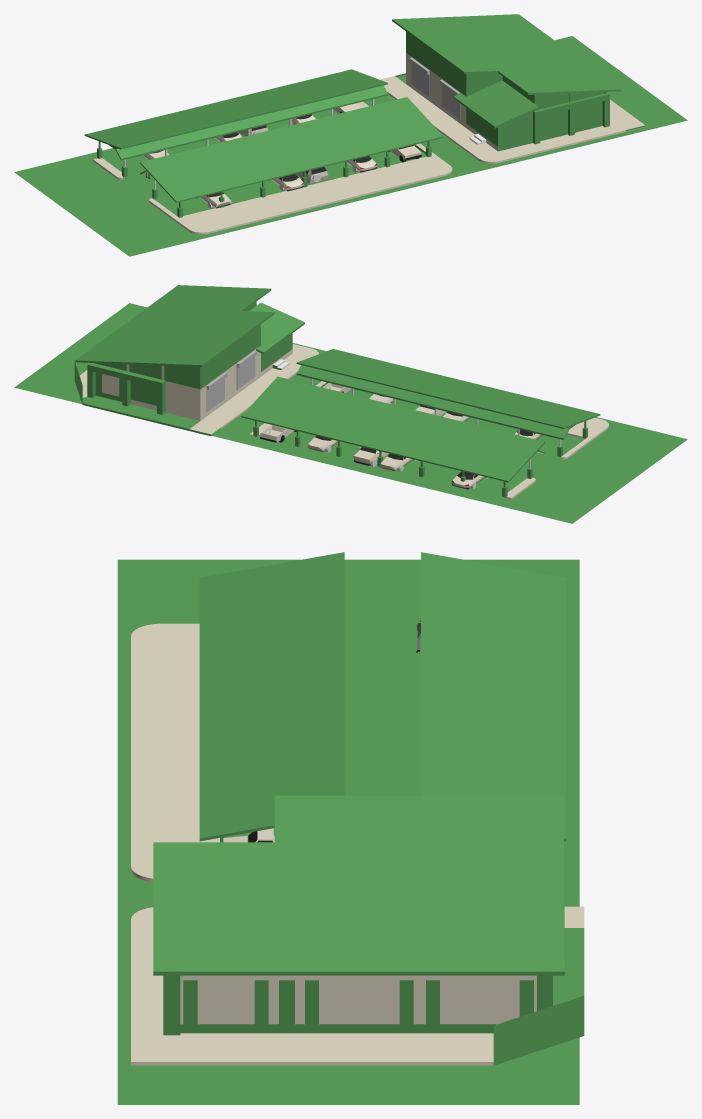
The picture shows the model from 3 angles, top to bottom: view 1: azimuth 30°, elevation 25°; view 2: azimuth 150°, elevation 25°; view 3: azimuth 270°, elevation 25°; orthographic projection. The views are drawn at different scales.
Visible parts, largest first — view 1: parking_001, canteen_001, Layer0_001; view 2: parking_001, canteen_001, Layer0_001, SUV_Simple_001, Truck_Pickup_Simple_Small_001; view 3: parking_001, canteen_001, Layer0_001.
Part boxes in pixels (x1,y1,x2,y2): parking_001: (84,69,645,234); canteen_001: (392,14,621,151); Layer0_001: (14,36,687,256); parking_001: (74,344,608,499); canteen_001: (75,285,304,420); Layer0_001: (14,303,687,523); SUV_Simple_001: (353,447,388,465); Truck_Pickup_Simple_Small_001: (260,425,294,442); parking_001: (131,552,584,1065); canteen_001: (153,795,564,1035); Layer0_001: (117,559,579,1104).
Size of the model in its own units: 2520 by 285 by 912.
